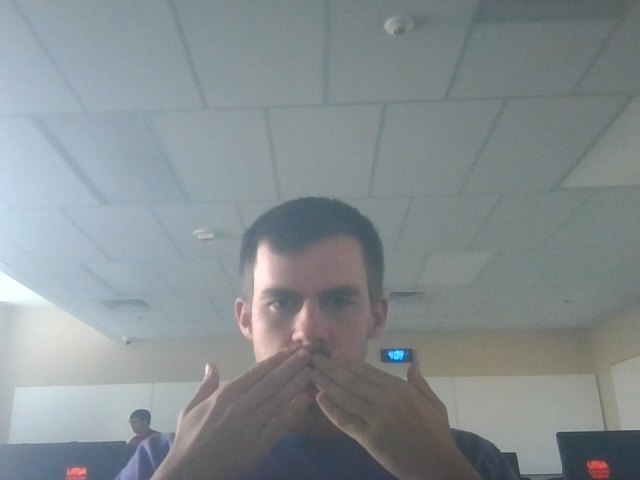thanks: (169, 339, 474, 462)
